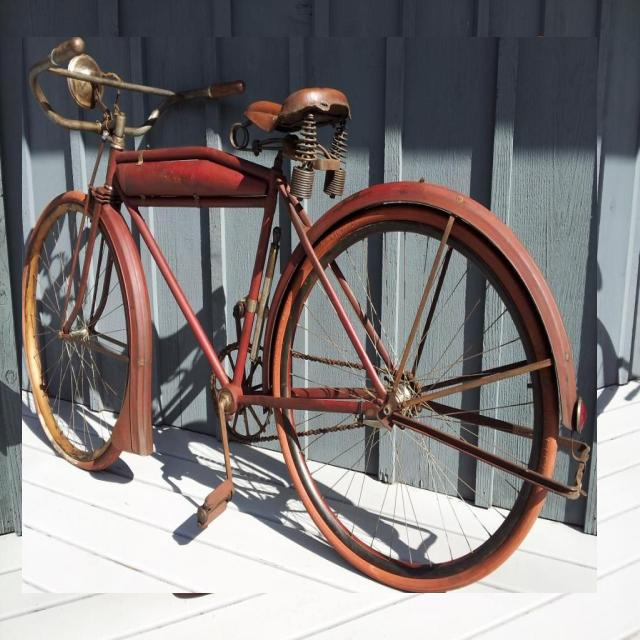bicycle: (22, 37, 596, 593)
